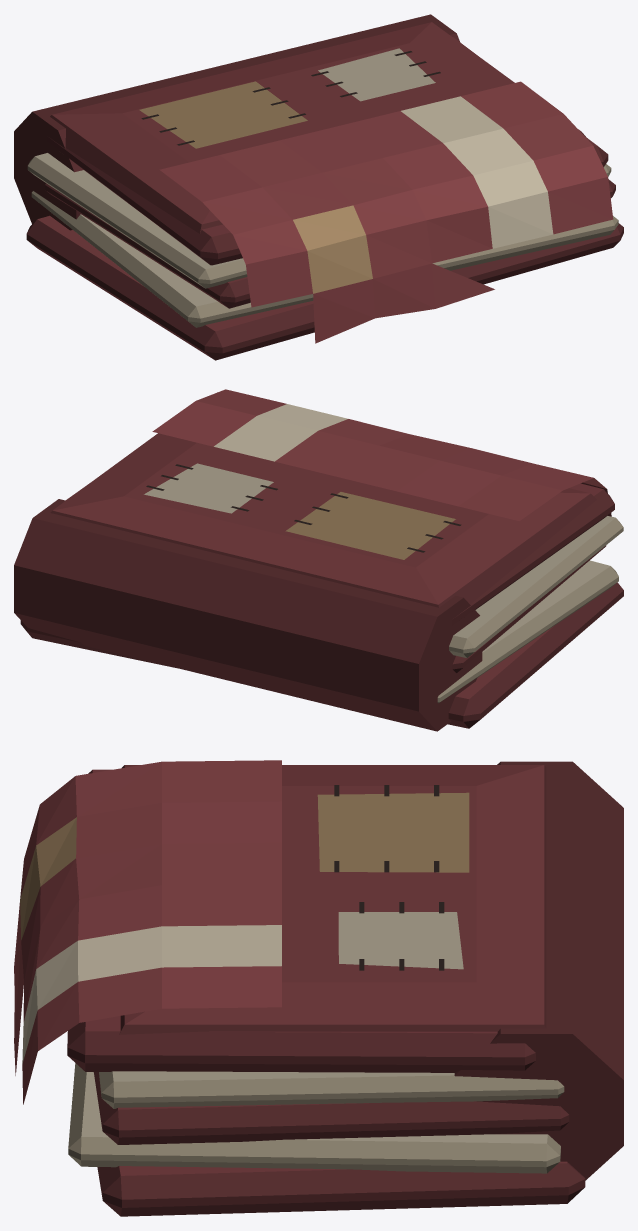
File: tl_prop_blanket_folded_v01.glb
3 renders of one model, top to bottom at view 1: azimuth 30°, elevation 25°; view 2: azimuth 150°, elevation 25°; view 3: azimuth 270°, elevation 25°, orthographic. The views are drawn at different scales.
Visible parts, largest first — view 1: tl_prop_blanket_folded_v01; view 2: tl_prop_blanket_folded_v01; view 3: tl_prop_blanket_folded_v01.
Part boxes in pixels (x1,y1,x2,y2): tl_prop_blanket_folded_v01: (14, 14, 623, 360); tl_prop_blanket_folded_v01: (14, 389, 623, 731); tl_prop_blanket_folded_v01: (14, 760, 623, 1216).
Size of the model in its own units: 0.4907 by 0.1376 by 0.407.
